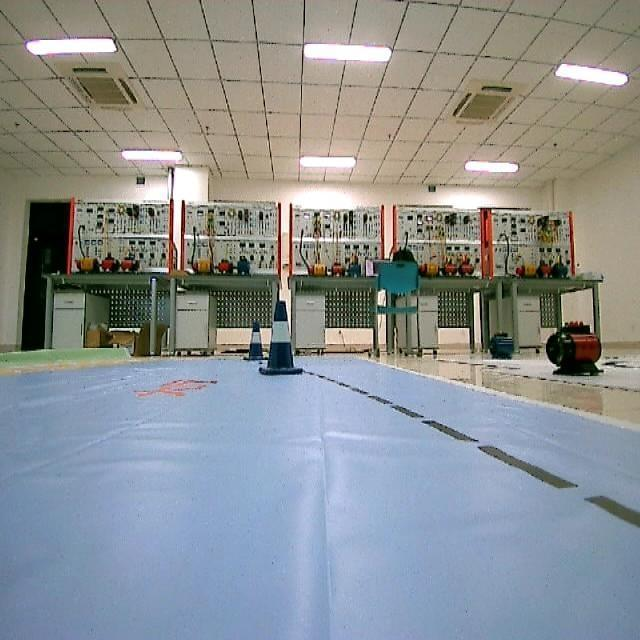obstacle: (262, 300, 304, 381), (247, 314, 270, 368)
